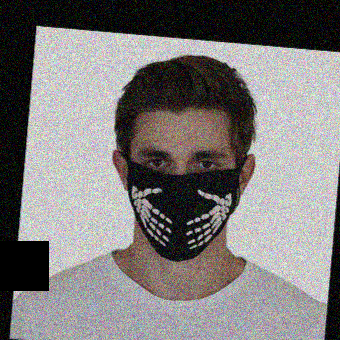with_mask: (124, 137, 239, 261)
